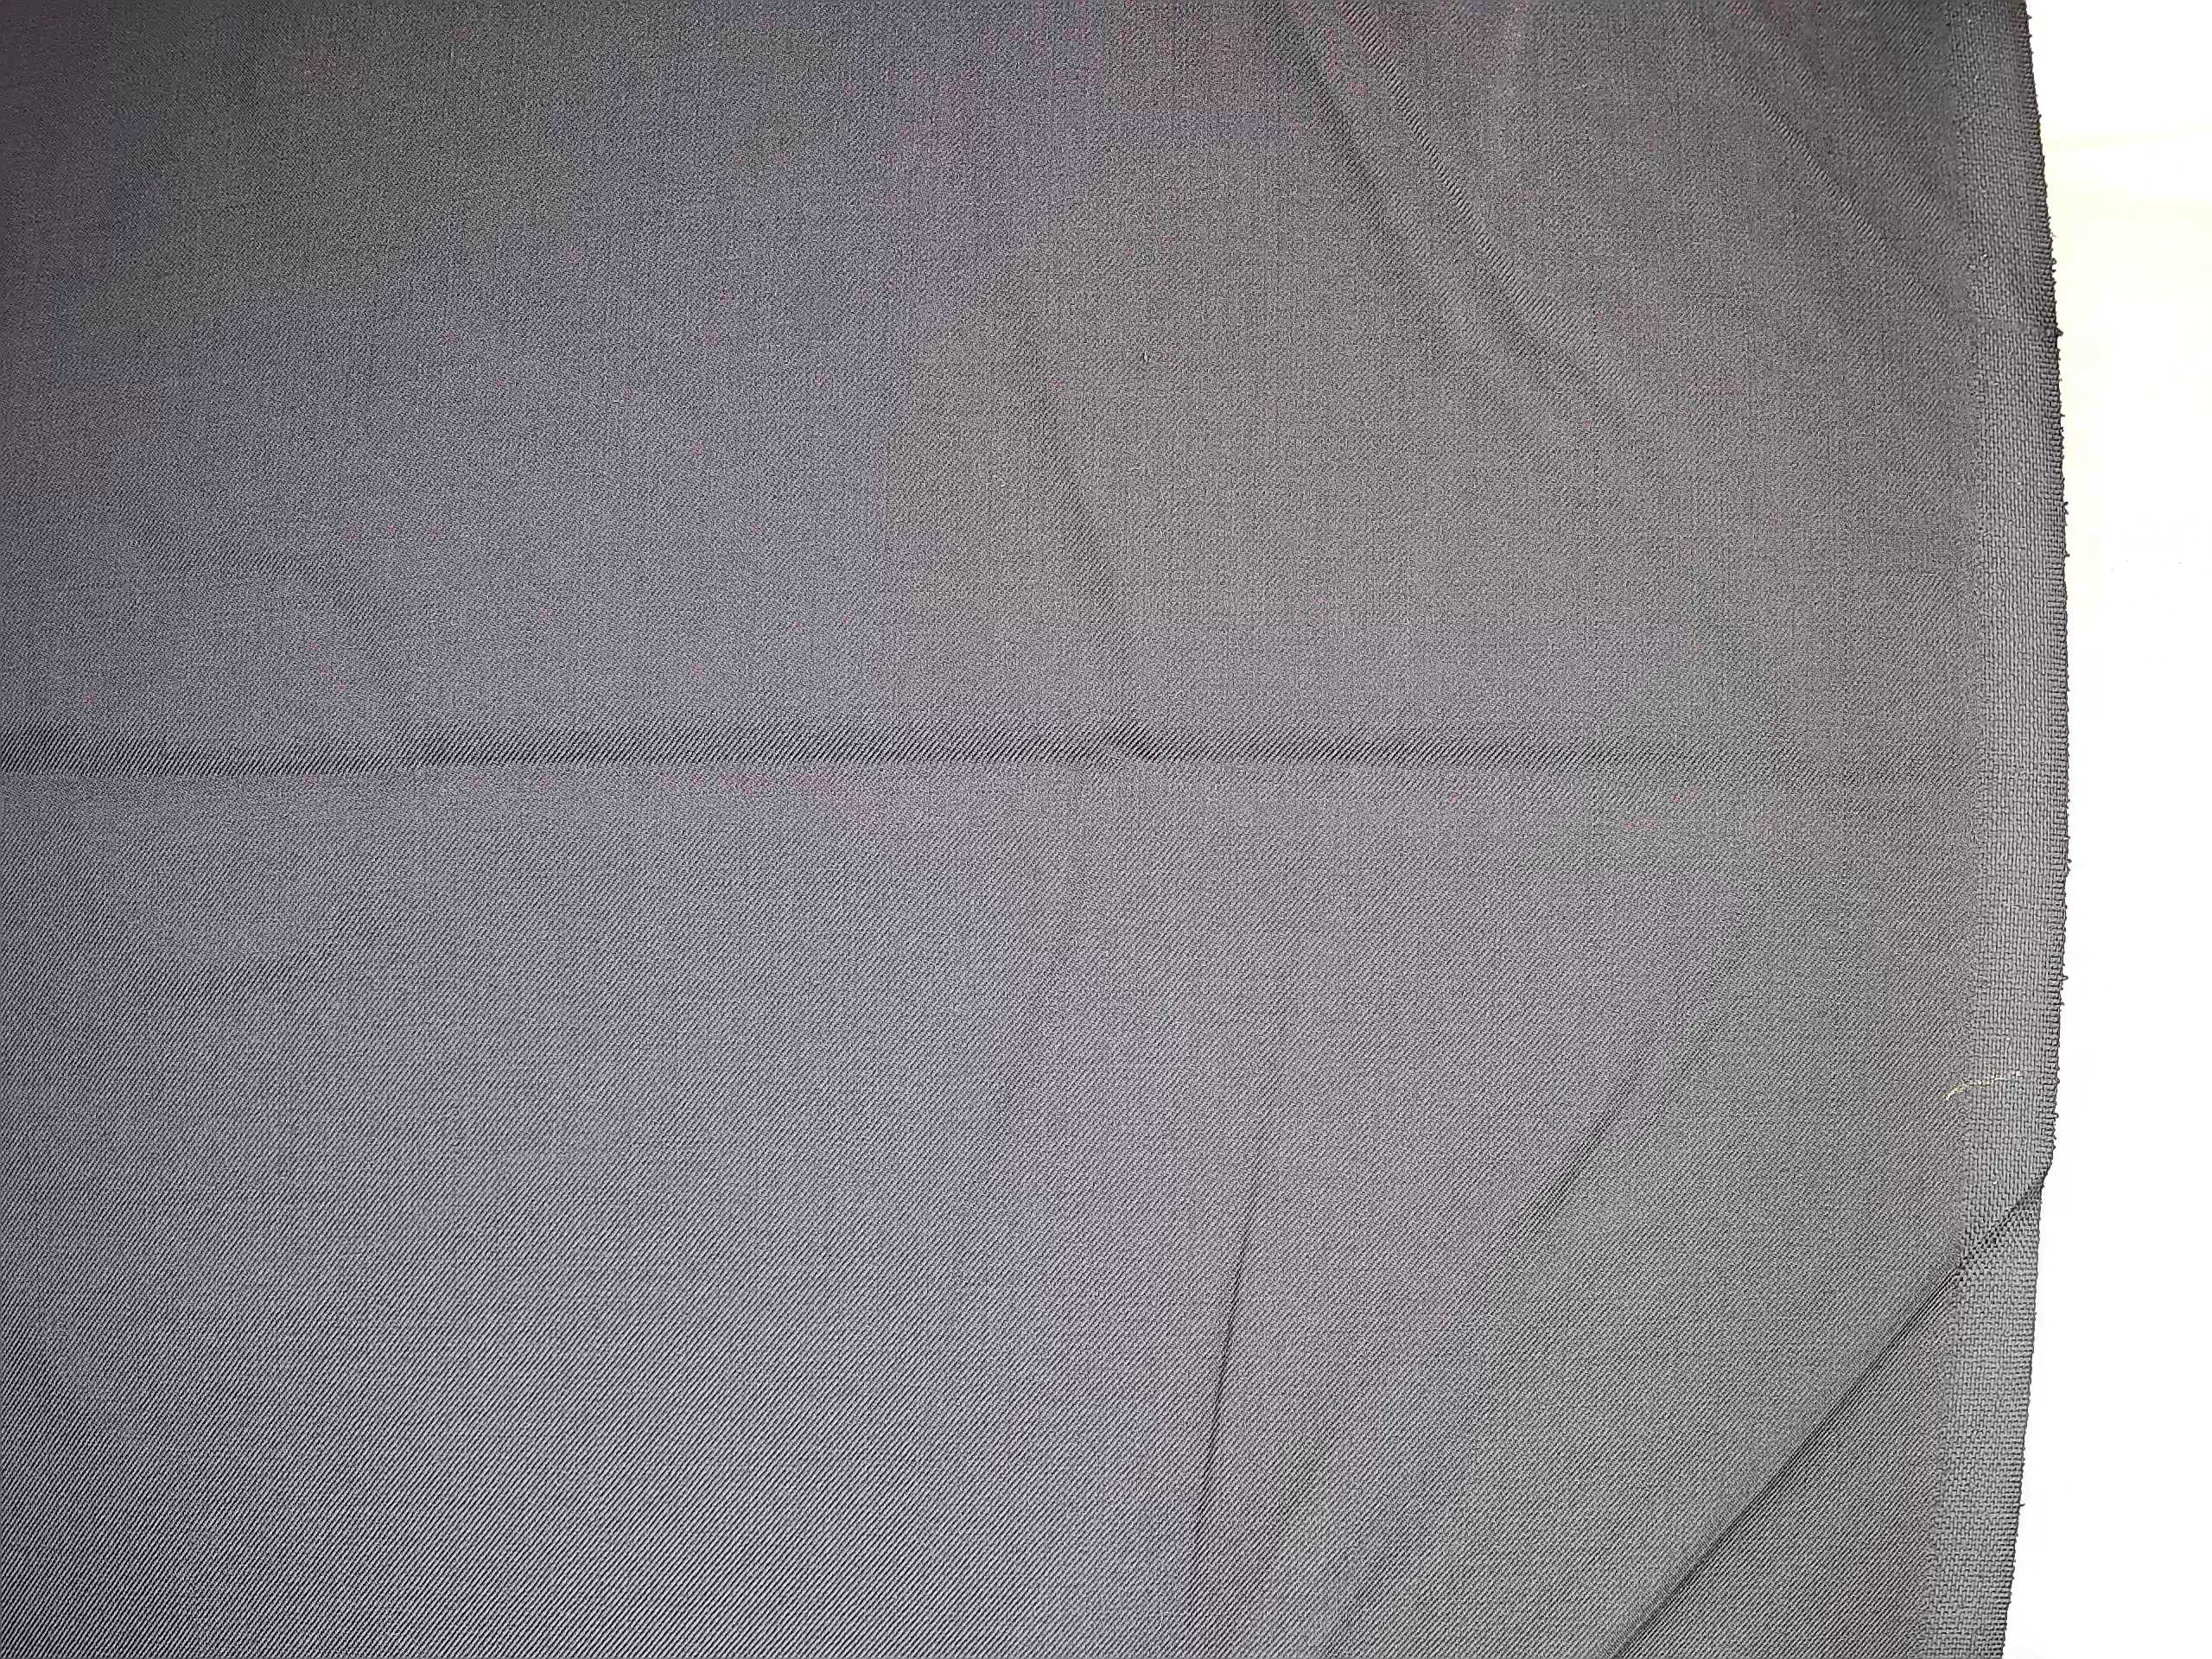hanging-warp: (1813, 366, 1872, 1431)
